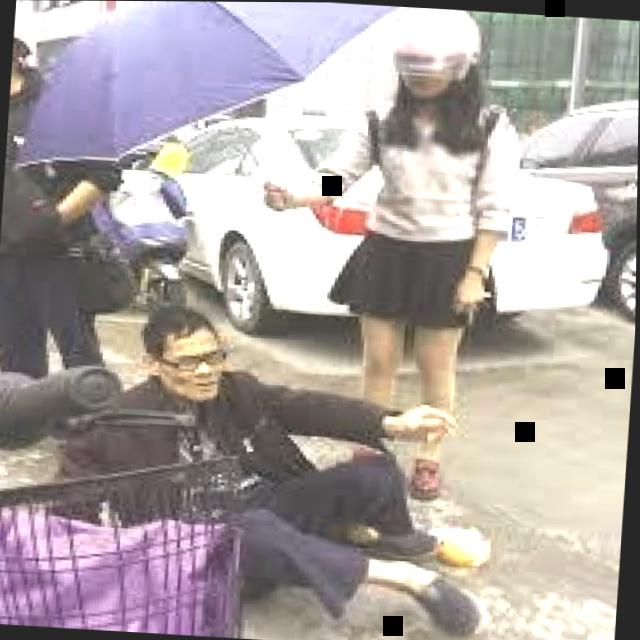Fall-Detected: (46, 266, 528, 640)
